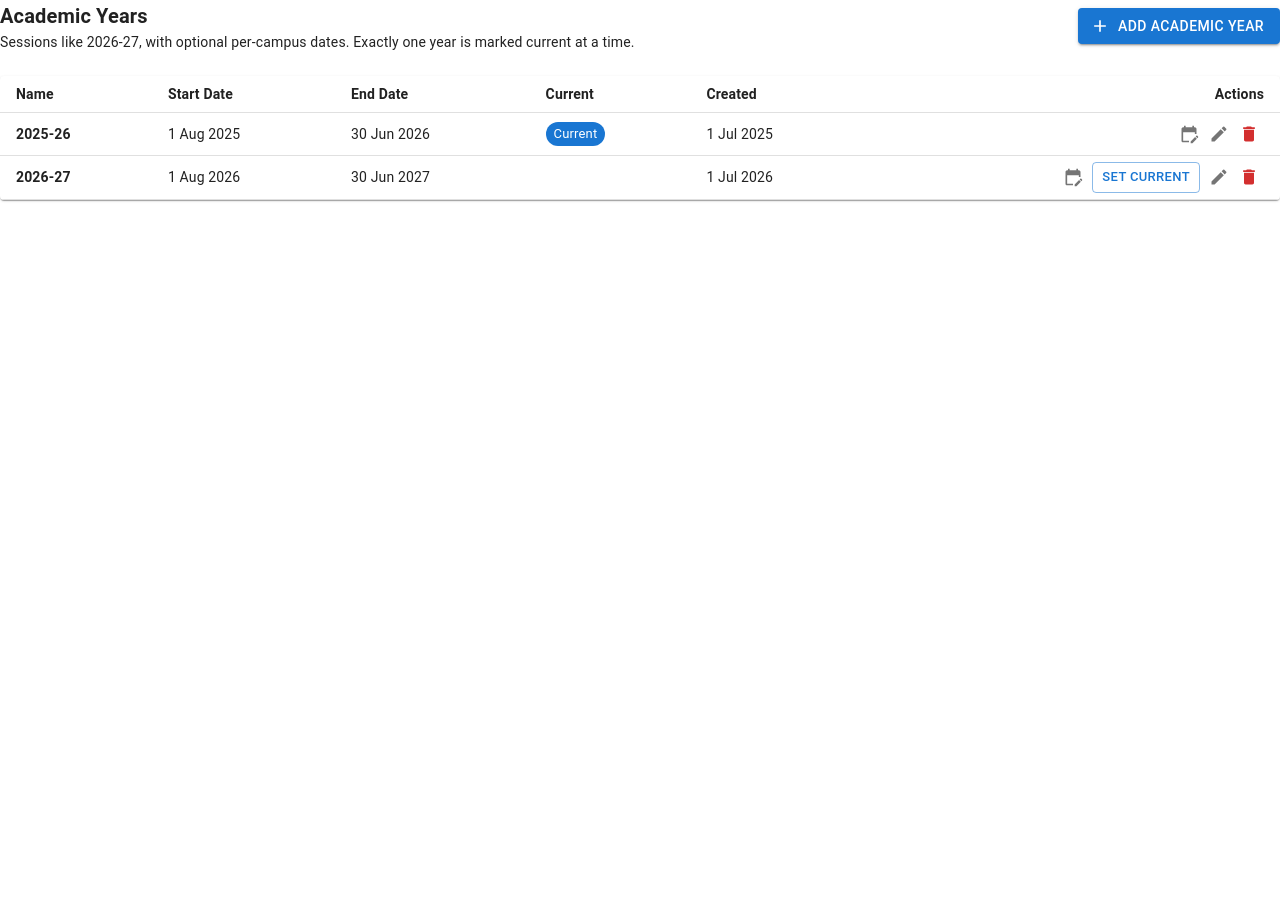
Test: AcademicYearsSection actions › says so when there are no campuses to override
Step 1. Click the button with test id "EditCalendarIcon" → (1189, 134), box [1174,119,1204,149]
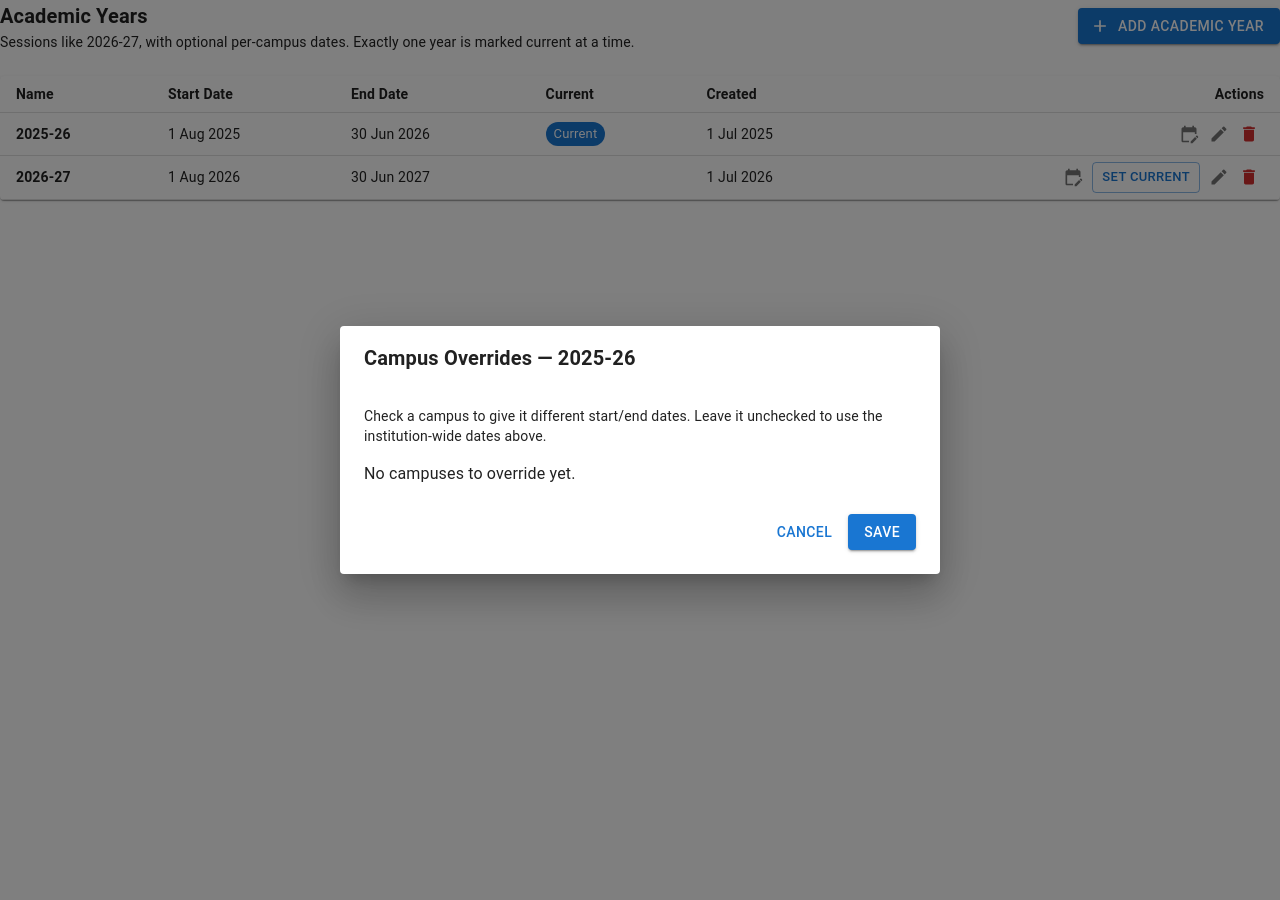
Result: the text "No campuses to override yet." is shown at [364,464,576,483]
